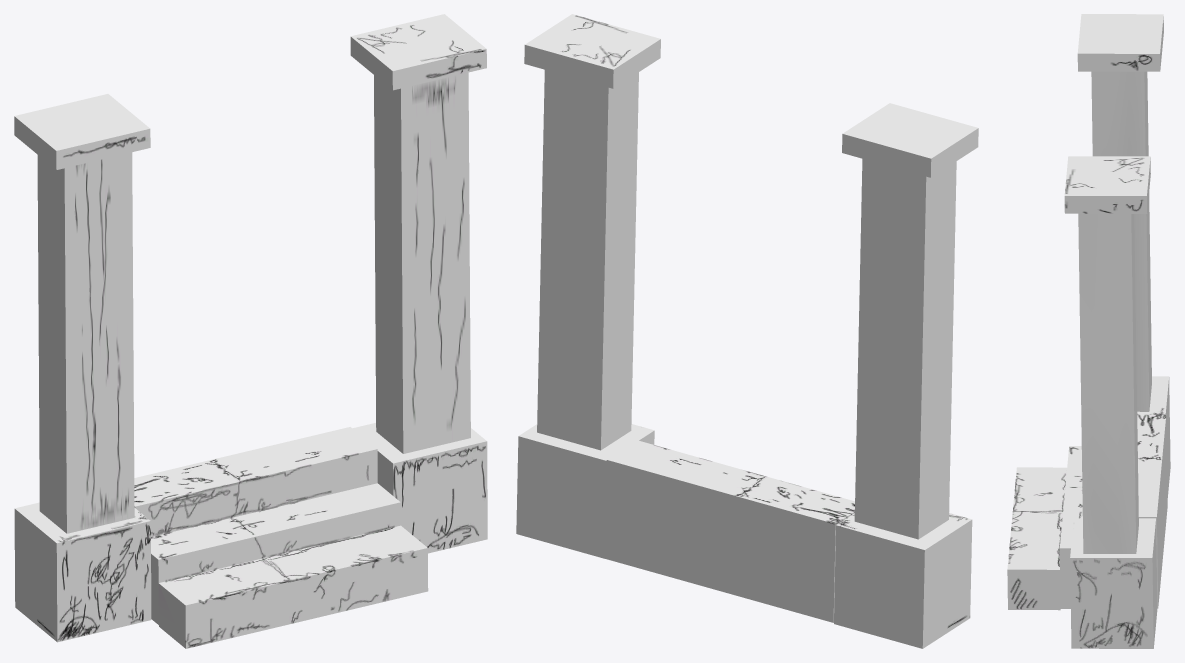
File: ancient_stairs.fbx
The picture shows the model from 3 angles, left to right: view 1: azimuth 30°, elevation 25°; view 2: azimuth 150°, elevation 25°; view 3: azimuth 270°, elevation 25°; orthographic projection. The views are drawn at different scales.
Parts seen in each view (by area): view 1: node_id19, node_id28, node_id7, node_id22, node_id13, node_id10, node_id25, node_id31, node_id16; view 2: node_id28, node_id19, node_id13, node_id22, node_id25, node_id16, node_id31; view 3: node_id28, node_id25, node_id19, node_id7, node_id31, node_id16, node_id13, node_id10, node_id22.
Boxes of the visible parts, x1,y1,x2,y2 form: node_id19: (37, 152, 134, 533); node_id28: (374, 72, 470, 453); node_id7: (158, 525, 428, 648); node_id22: (14, 502, 151, 642); node_id13: (134, 427, 377, 536); node_id10: (151, 483, 400, 624); node_id25: (353, 423, 487, 553); node_id31: (350, 14, 486, 90); node_id16: (14, 94, 150, 169); node_id28: (537, 70, 638, 450); node_id19: (854, 159, 956, 539); node_id13: (604, 440, 854, 622); node_id22: (834, 513, 972, 648); node_id25: (516, 424, 654, 558); node_id16: (842, 103, 978, 177); node_id31: (524, 14, 660, 88); node_id28: (1078, 213, 1138, 553); node_id25: (1070, 518, 1157, 648); node_id19: (1091, 71, 1151, 411); node_id7: (1007, 467, 1066, 610); node_id31: (1064, 156, 1150, 213); node_id16: (1077, 14, 1163, 71); node_id13: (1137, 414, 1167, 608); node_id10: (1059, 446, 1082, 608); node_id22: (1137, 376, 1170, 497).
Bounding box in the file's own units: 0.4513 × 0.5053 × 0.1631.
Materials: 9 (9 with a texture image).
